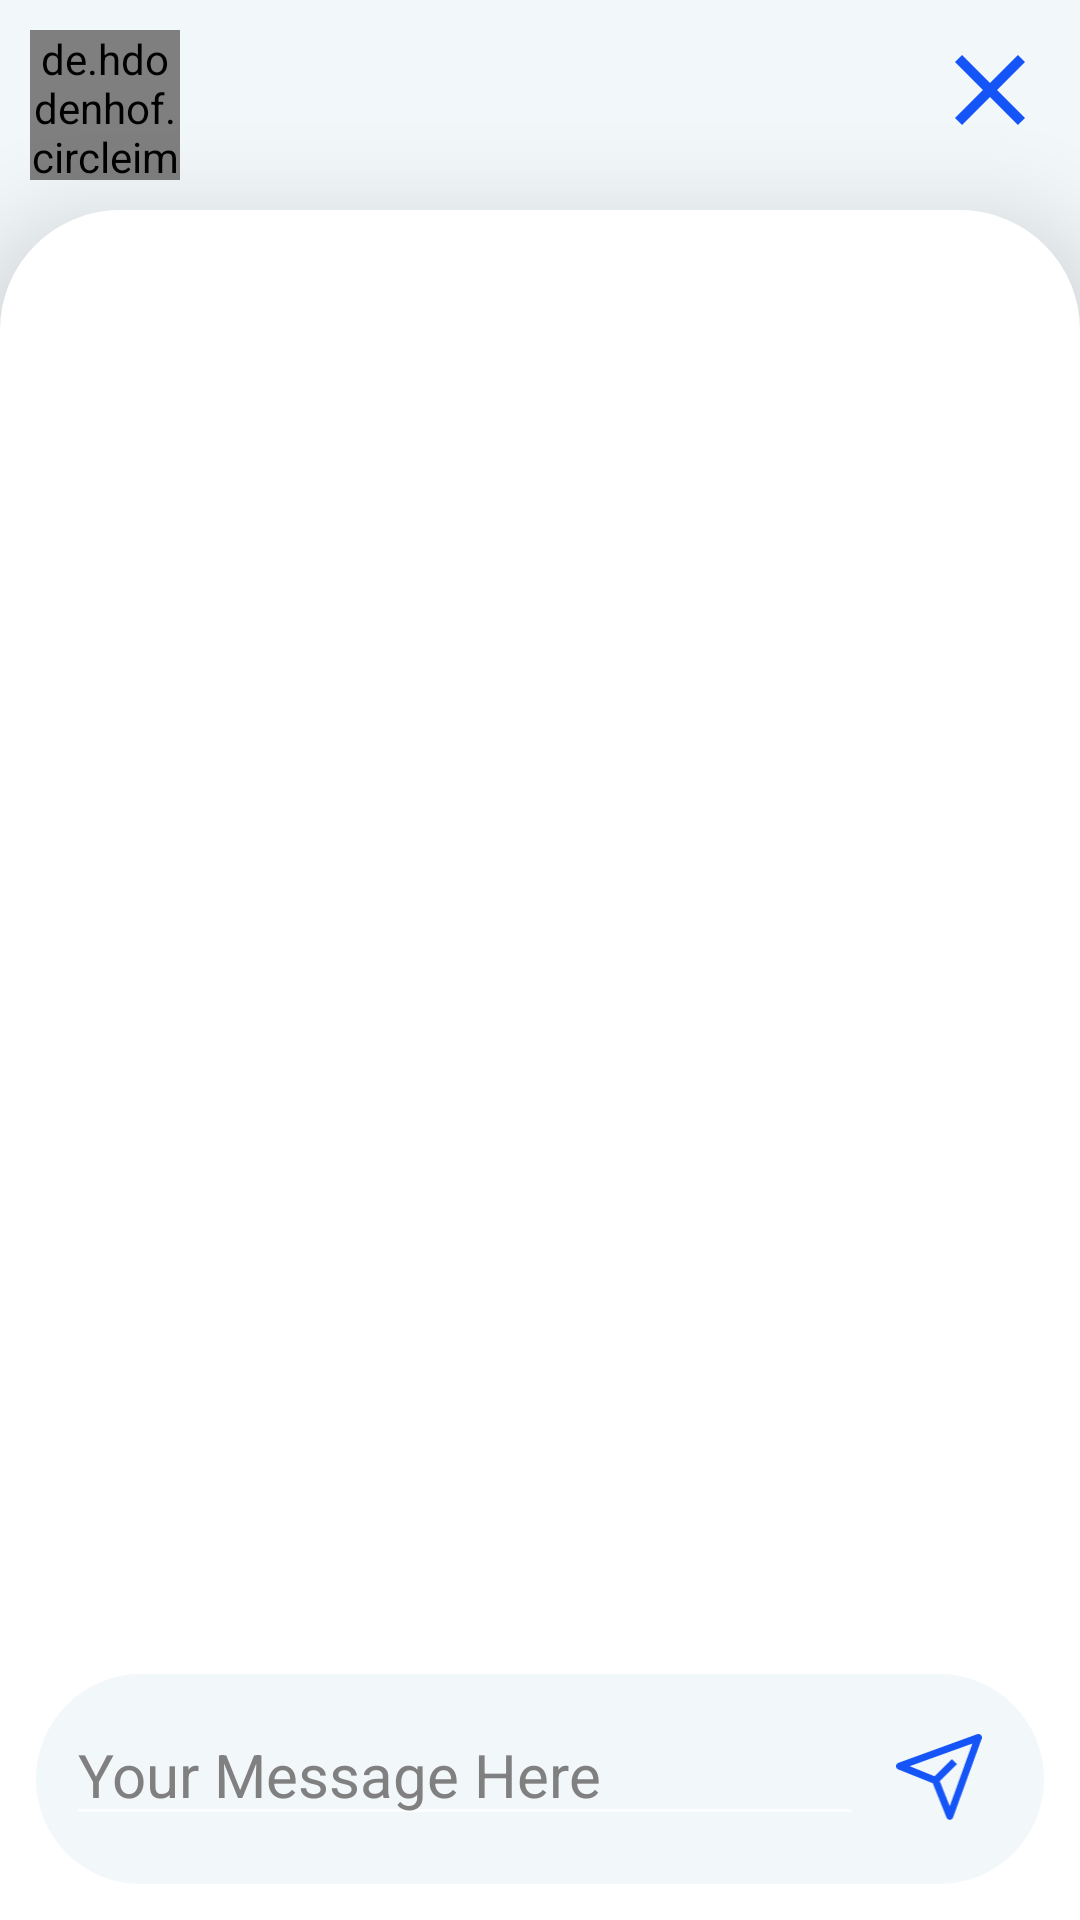

Point at icon controls on the screen. Image size 1080x1920, points as (x=x, y=y).
close: (x=990, y=90)
send message: (x=939, y=1777)
